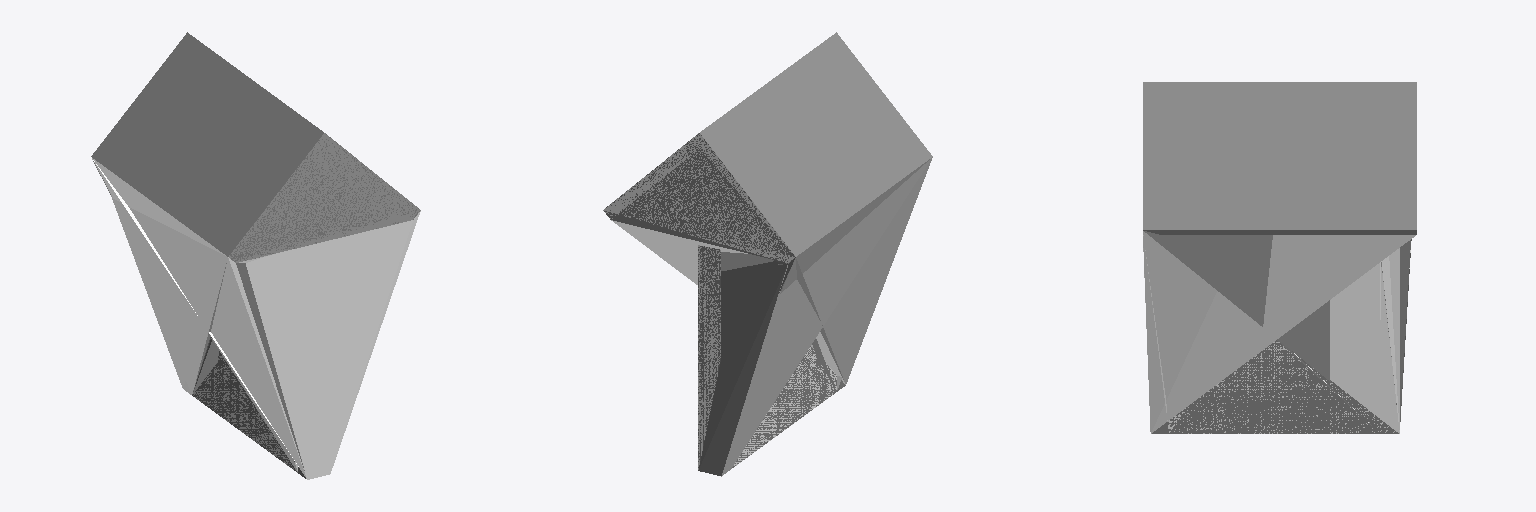
The model's file is Old_Well.obj.
3 renders of one model, left to right at view 1: azimuth 30°, elevation 25°; view 2: azimuth 150°, elevation 25°; view 3: azimuth 270°, elevation 25°, orthographic.
Parts seen in each view (by area): view 1: Manivela, Poco_telha, Fundo, Poco, Poco_rolo; view 2: Manivela, Poco_telha, Poco, Poco_rolo; view 3: Poco_telha, Manivela, Poco.
Boxes of the visible parts, box(x1,y1,x2,y2) form: Manivela: box(91, 157, 420, 479); Poco_telha: box(92, 32, 419, 261); Fundo: box(229, 133, 420, 262); Poco: box(91, 34, 304, 471); Poco_rolo: box(210, 137, 416, 478); Manivela: box(603, 133, 932, 476); Poco_telha: box(606, 32, 932, 261); Poco: box(606, 133, 930, 475); Poco_rolo: box(610, 133, 845, 432); Poco_telha: box(1143, 82, 1416, 234); Manivela: box(1143, 231, 1415, 433); Poco: box(1144, 231, 1411, 433).
Size of the model in its own units: 2.3 by 3.96 by 2.83.